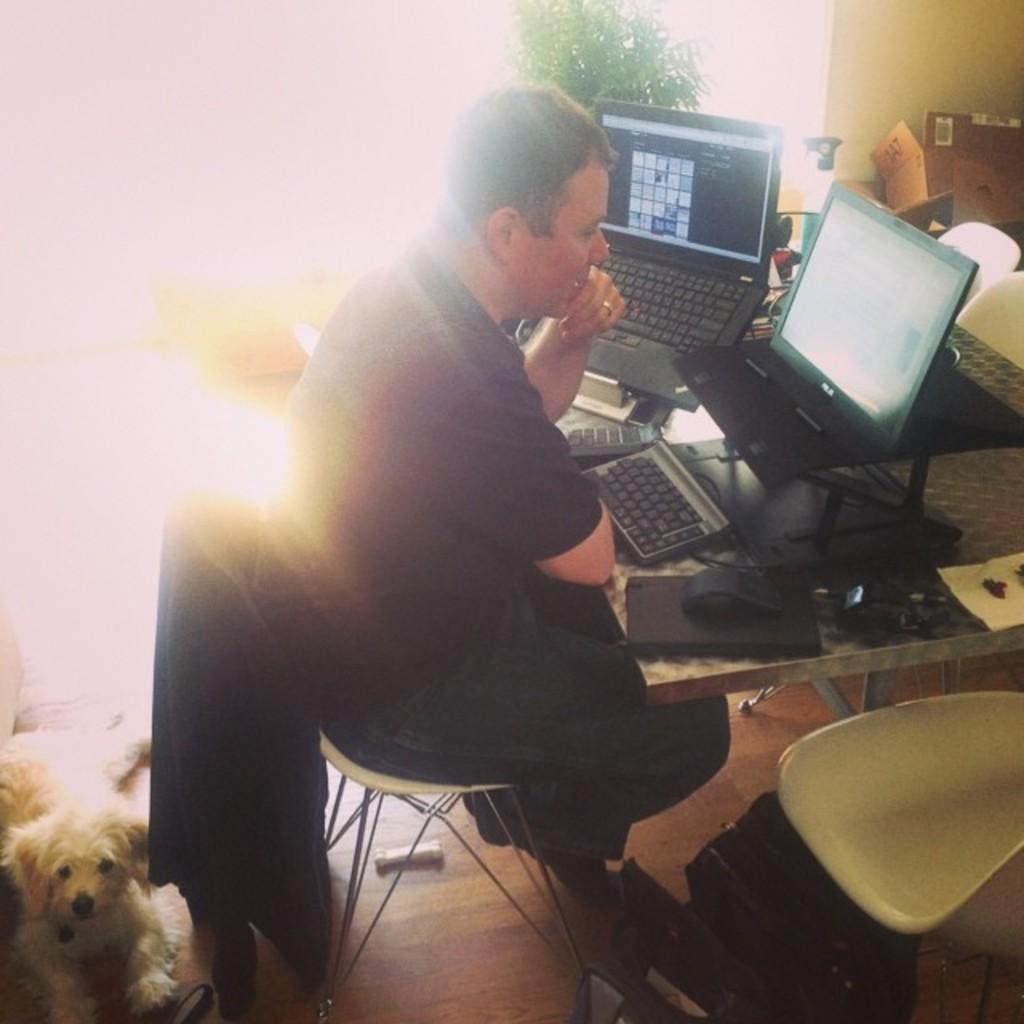Chair: (318, 710, 594, 1022)
Computer-keyboard: (584, 450, 717, 562), (605, 258, 749, 357)
